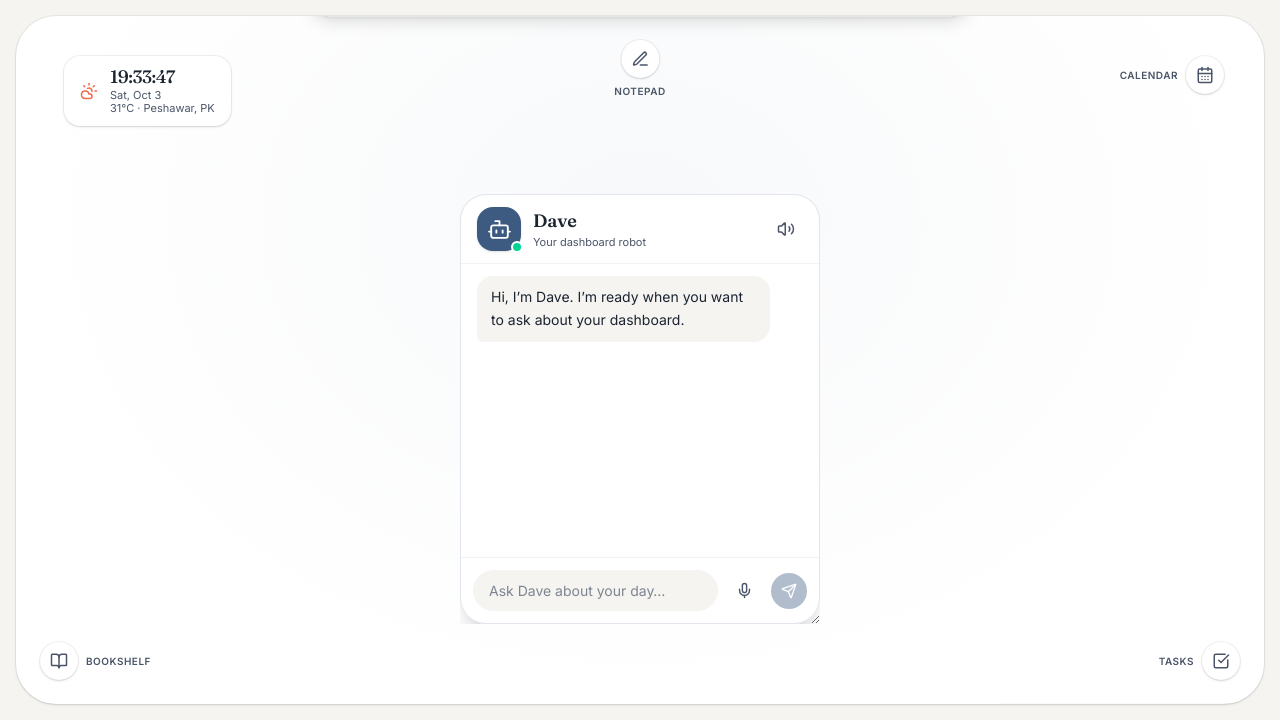
Test: DashboardPage › toggles notepad panel
Click the button named "Toggle notepad": (640, 59) left=621, top=40, right=659, bottom=78
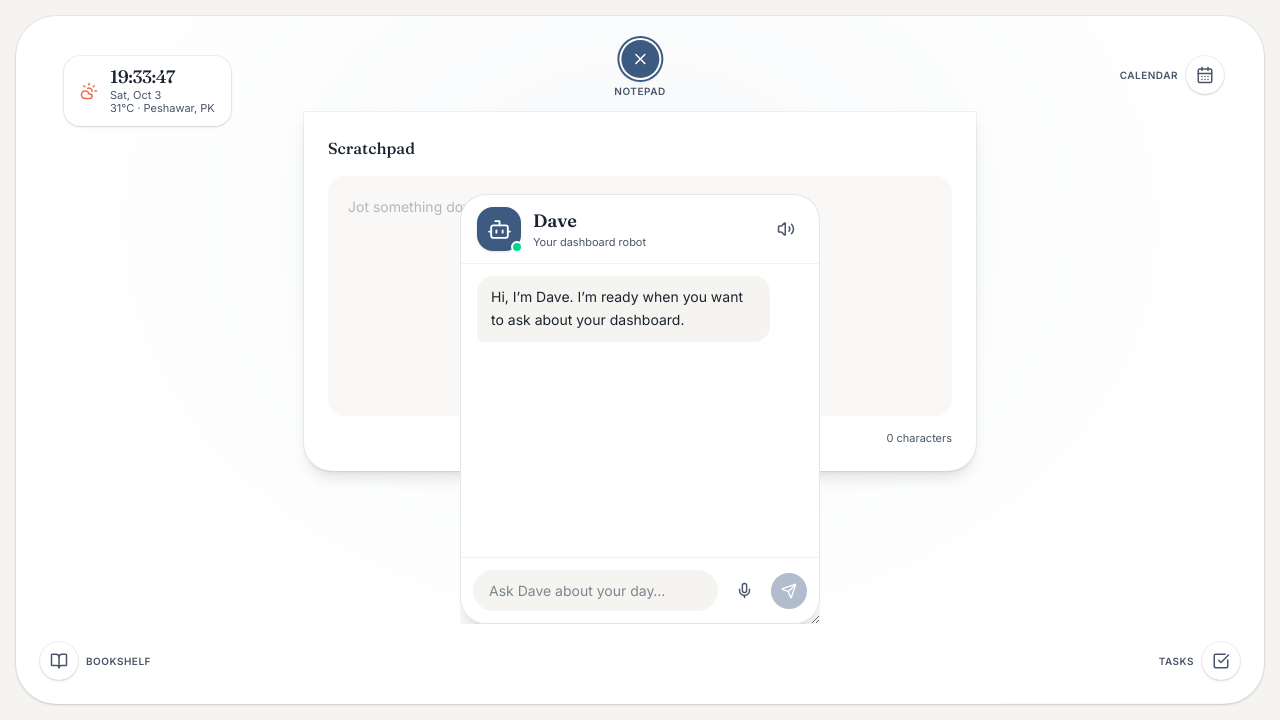
Check: the heading "Scratchpad" is shown, box left=328, top=138, right=415, bottom=158
